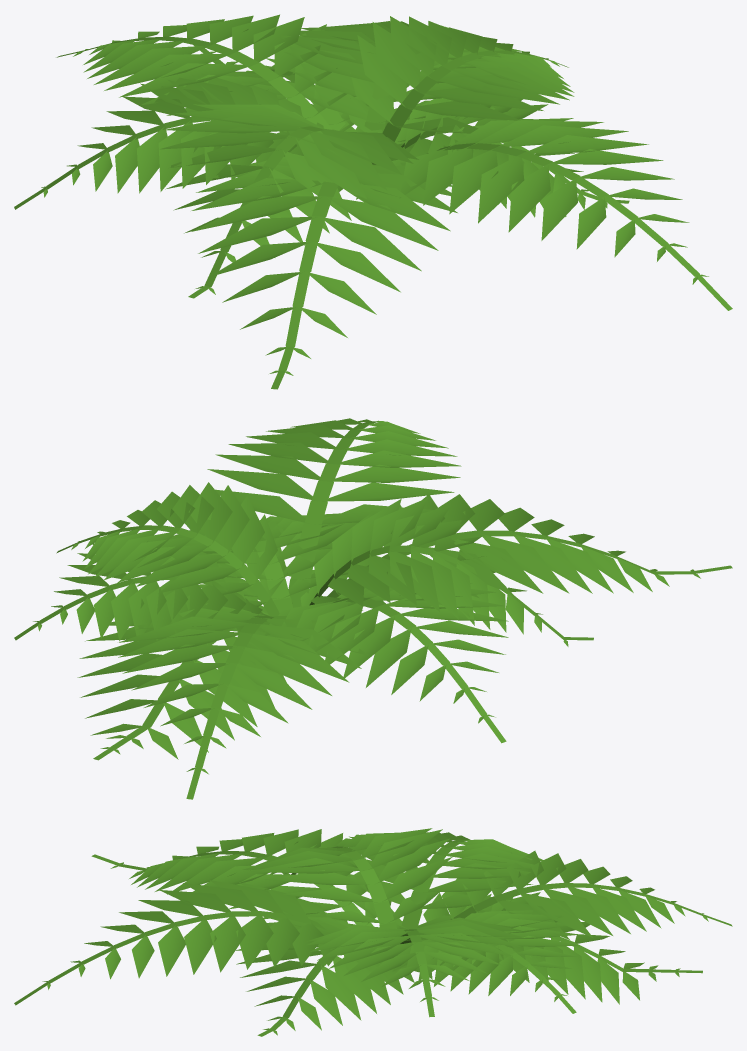
Rendered from PLANT_Fern_SM.glb.
3 views of the same model, one above another, from view 1: azimuth 30°, elevation 25°; view 2: azimuth 150°, elevation 25°; view 3: azimuth 270°, elevation 25° (orthographic). The views are drawn at different scales.
Visible parts, largest first — view 1: PLANT_Fern_SM; view 2: PLANT_Fern_SM; view 3: PLANT_Fern_SM.
Boxes of the visible parts, <box> form: PLANT_Fern_SM: <box>14,14,732,389</box>; PLANT_Fern_SM: <box>14,418,732,799</box>; PLANT_Fern_SM: <box>14,828,732,1036</box>.
Size of the model in its own units: 0.8048 by 0.1605 by 1.2.
